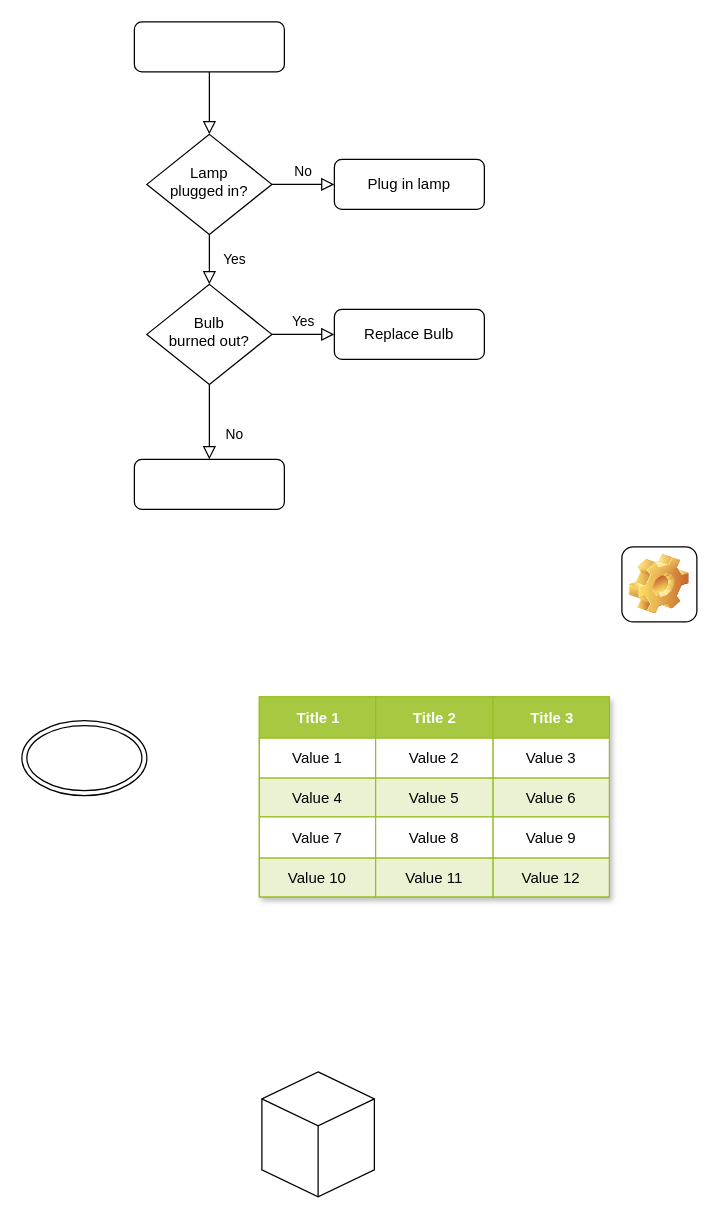
The diagram is 719 pixels wide and 1219 high, and some of its shapes have lost their labels. Each missing label, with the centre of its shape:
"Icon" belongs at (659,584).
"Lamp doesn't work" belongs at (208,46).
"Repair Lamp" belongs at (208,483).
